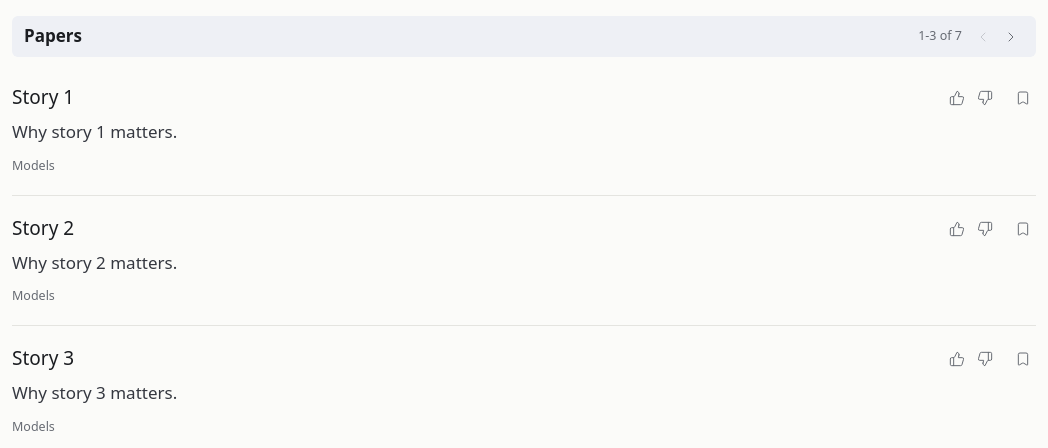
Test case: BriefSection › moves on with "More stories" and back with "Previous stories", each marked disabled at its end
What coordinates should you click on to do the following:
click the button named "More stories in this section"
I would click on:
 (1011, 36)
Its box is [998,24,1024,50].
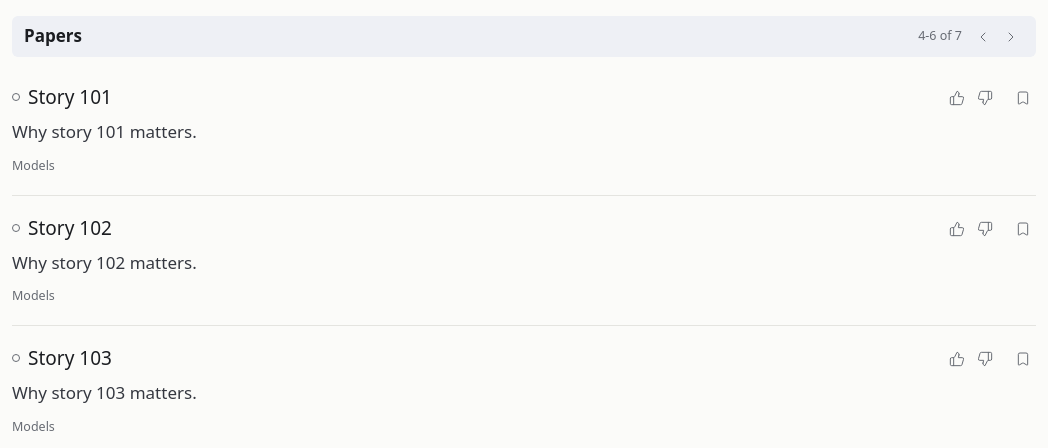
What coordinates should you click on to do the following:
click the button named "More stories in this section"
I would click on:
 (1011, 36)
Its box is [998,24,1024,50].
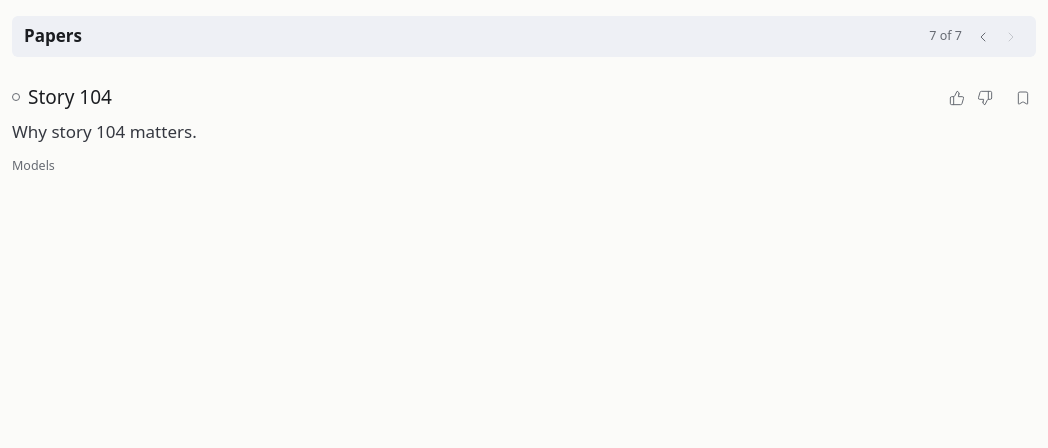
Now the text "7 of 7" is shown, box [929,27,962,46]
What coordinates should you click on to do the following:
click the button named "Previous stories in this section"
I would click on:
 (983, 36)
Its box is [970,24,996,50].
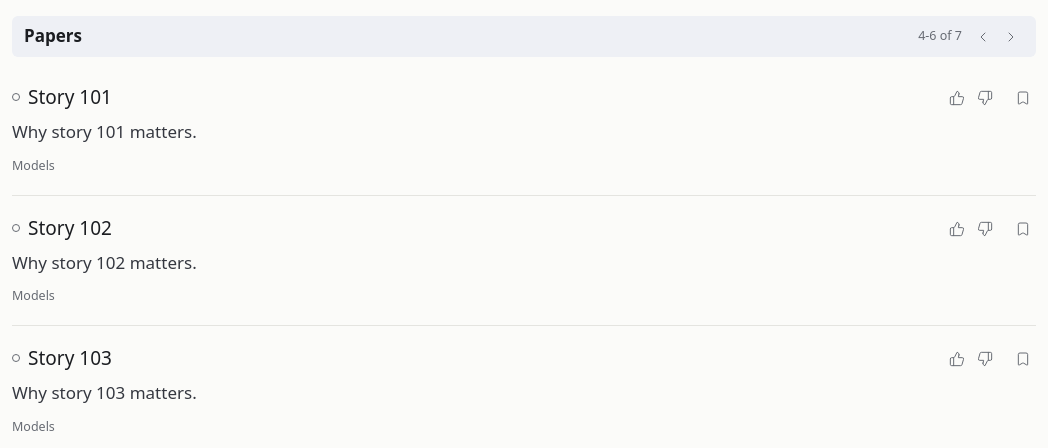
Now the text "4-6 of 7" is shown, box [918,27,962,46]
